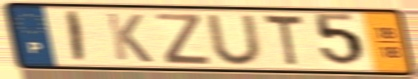5: (310, 13, 368, 72)
I: (66, 9, 87, 64)
K: (103, 11, 155, 65)
T: (260, 12, 306, 69)
U: (203, 13, 267, 67)
Z: (154, 11, 213, 66)
